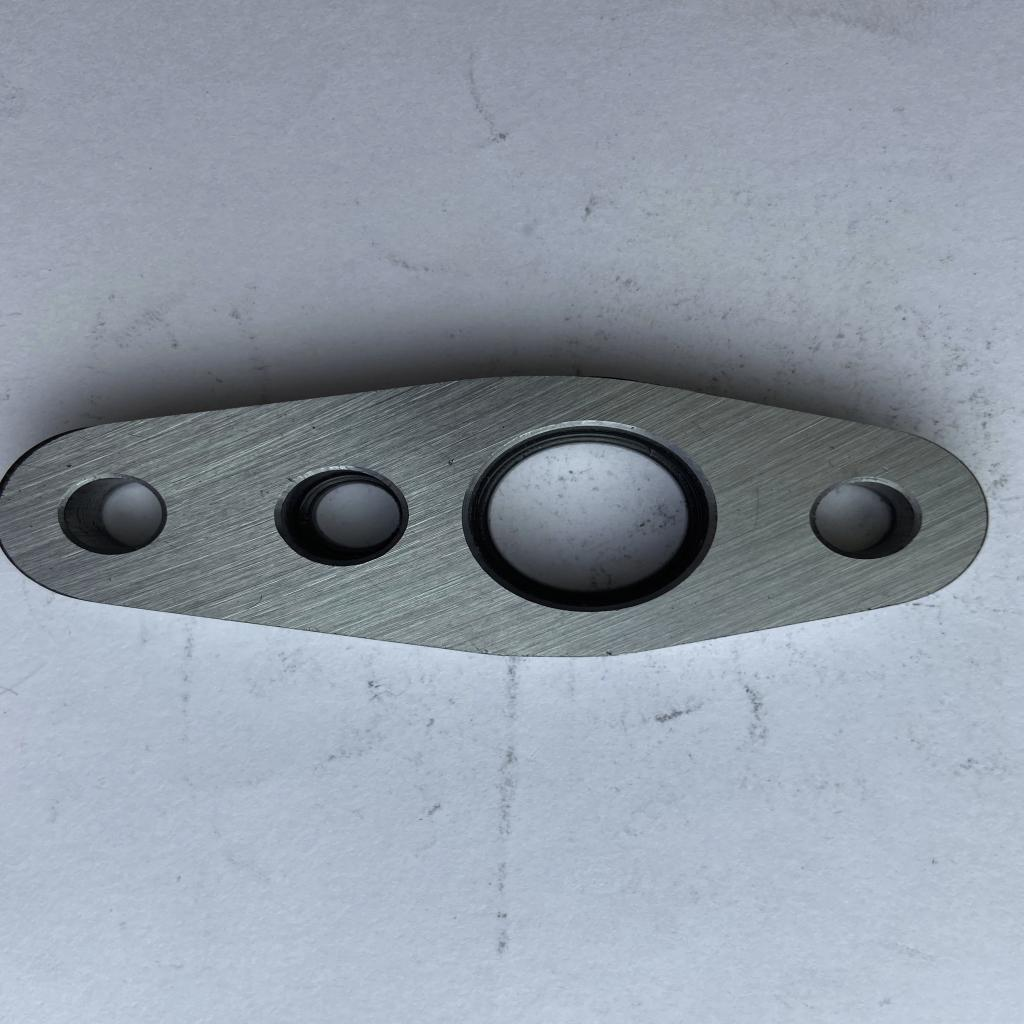chap: (879, 464, 891, 474), (602, 648, 614, 657), (64, 461, 72, 470)
